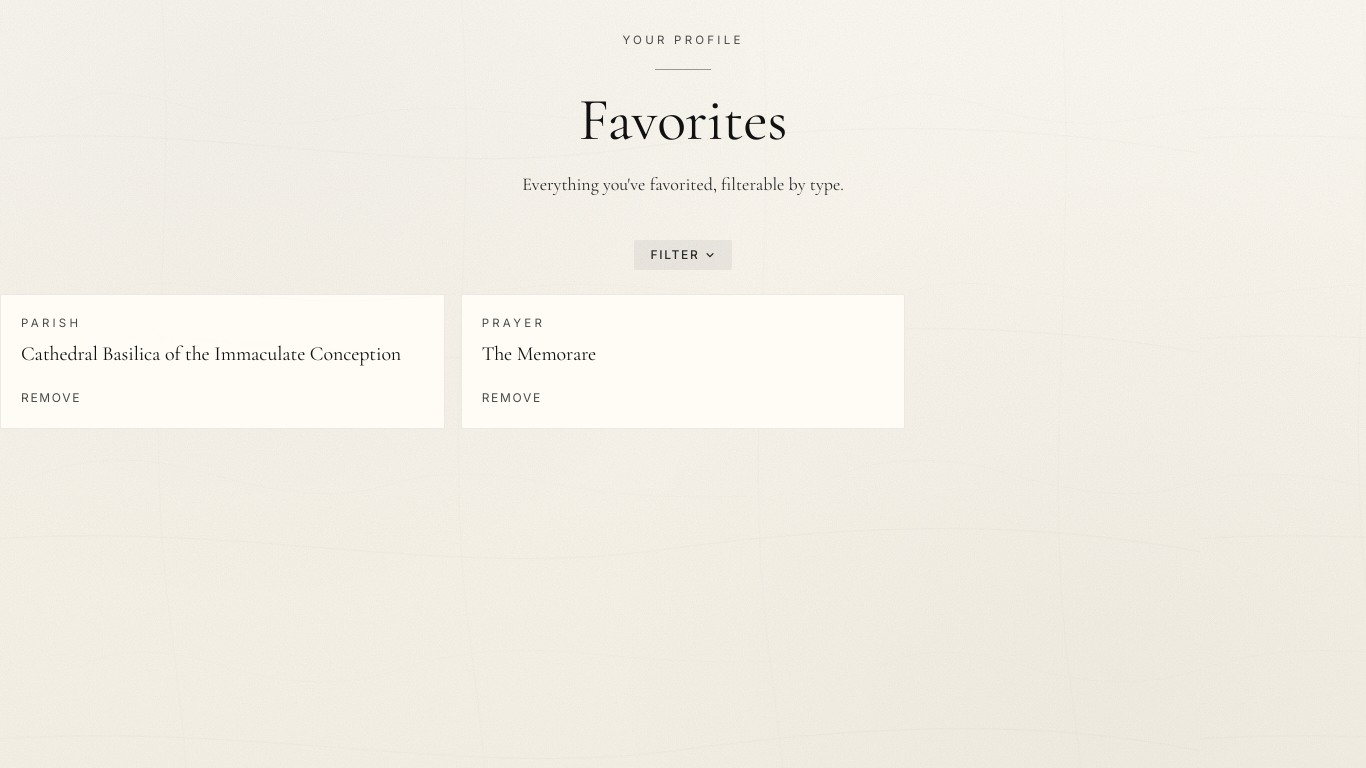
Test case: the favorites page includes saved parishes › filters down to Parishes and counts them
Click the button named "Filter favorites by type".
click(683, 254)  # box [634,240,732,270]
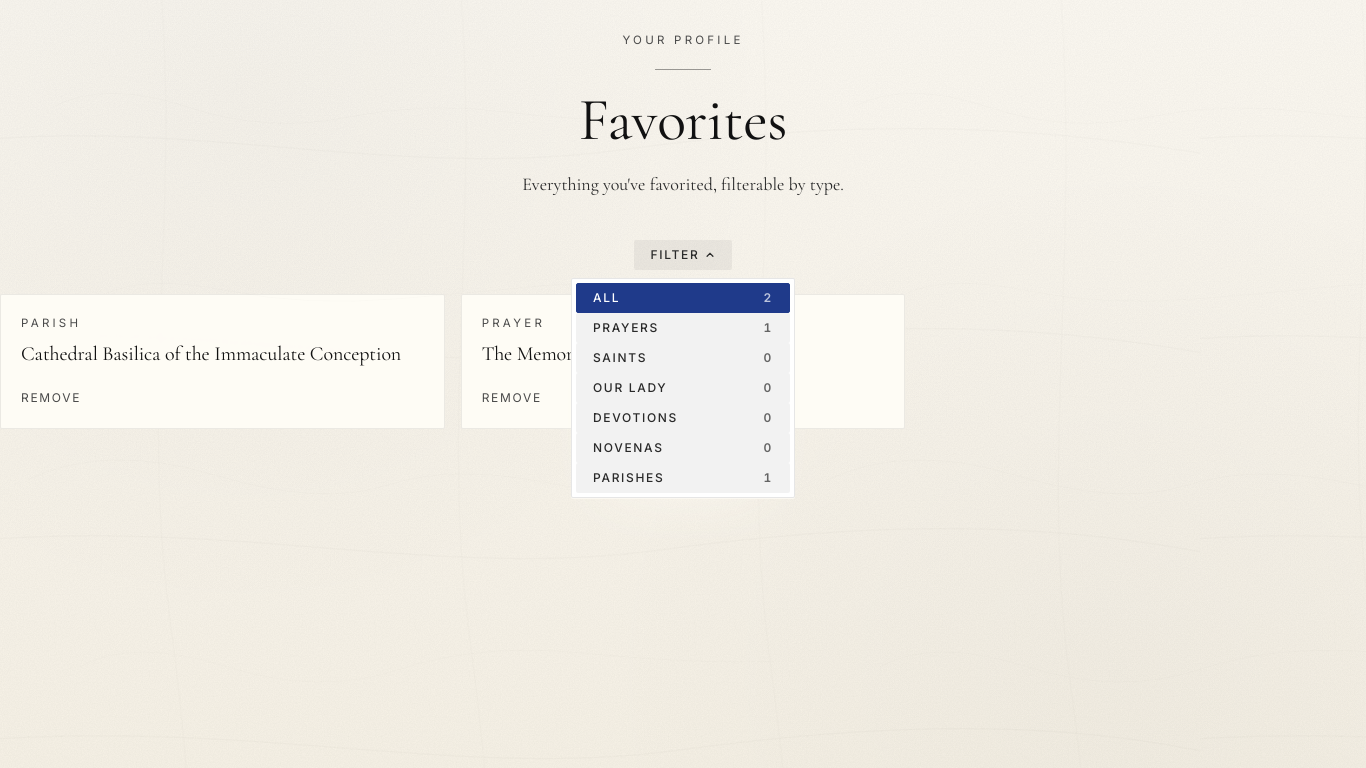
Now the option "Parishes 1" is shown
Click the option "Parishes 1".
click(683, 478)  # box [576,462,790,492]
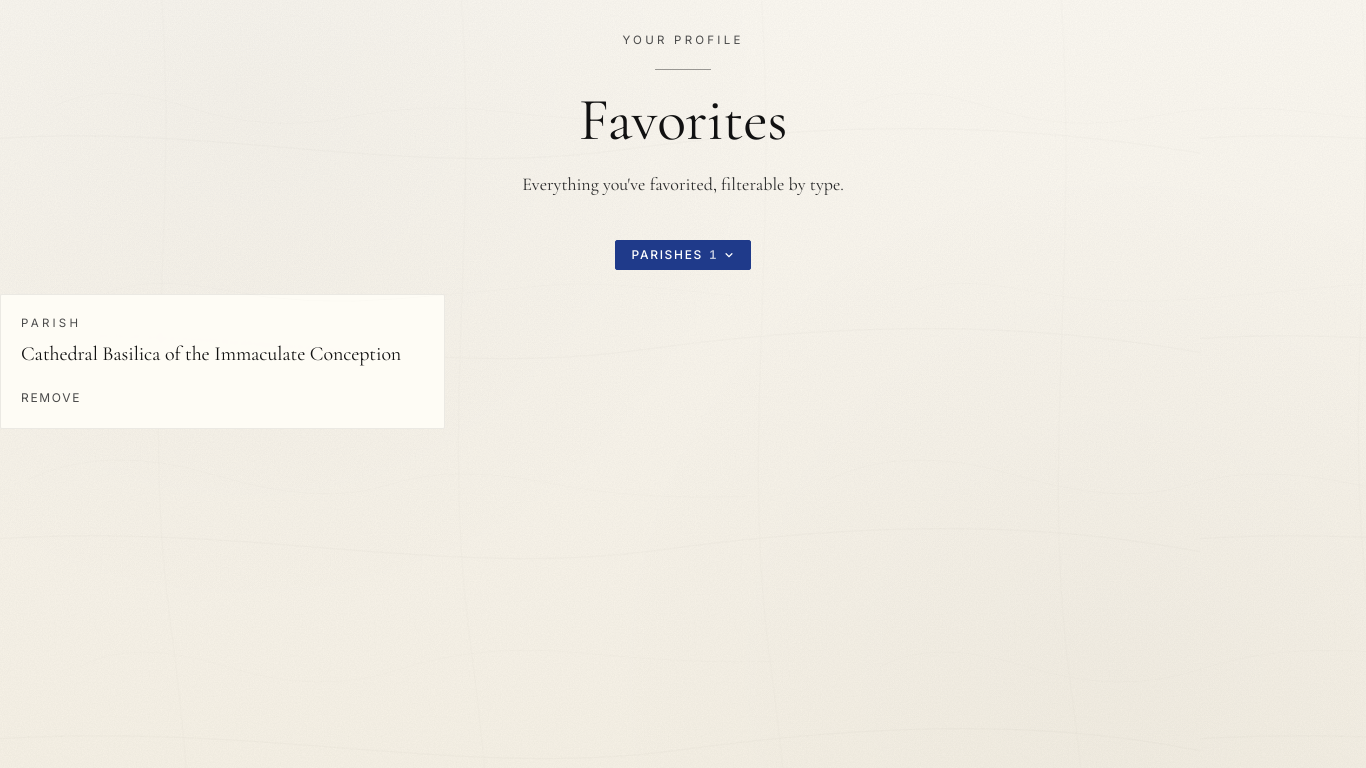
Expected: the heading "Cathedral Basilica of the Immaculate Conception" is shown, [21,340,424,368]
Now the link "The Memorare" is gone
